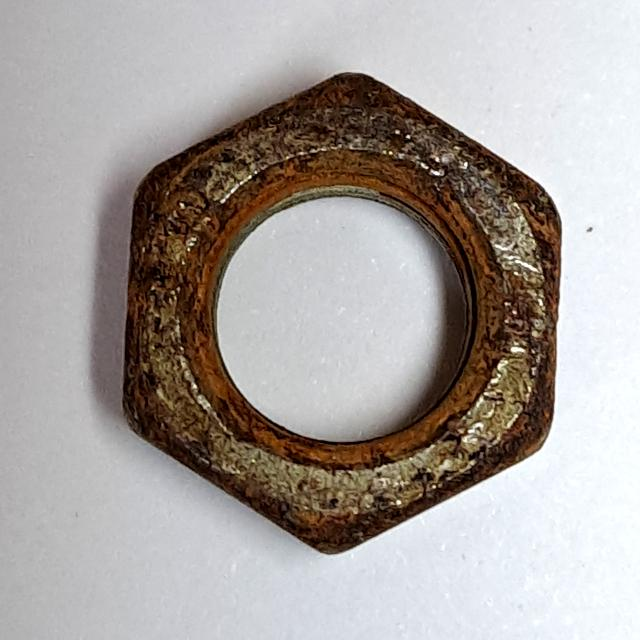Rust: (107, 62, 580, 573)
